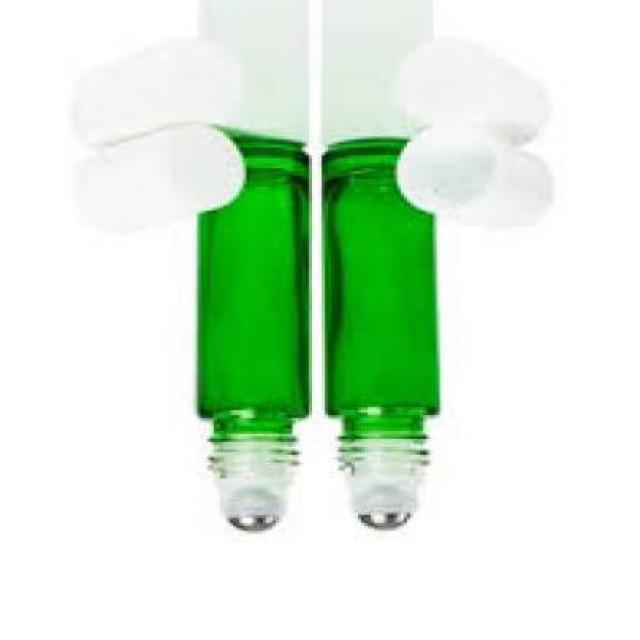kaca: (318, 142, 438, 442), (194, 142, 306, 444)
